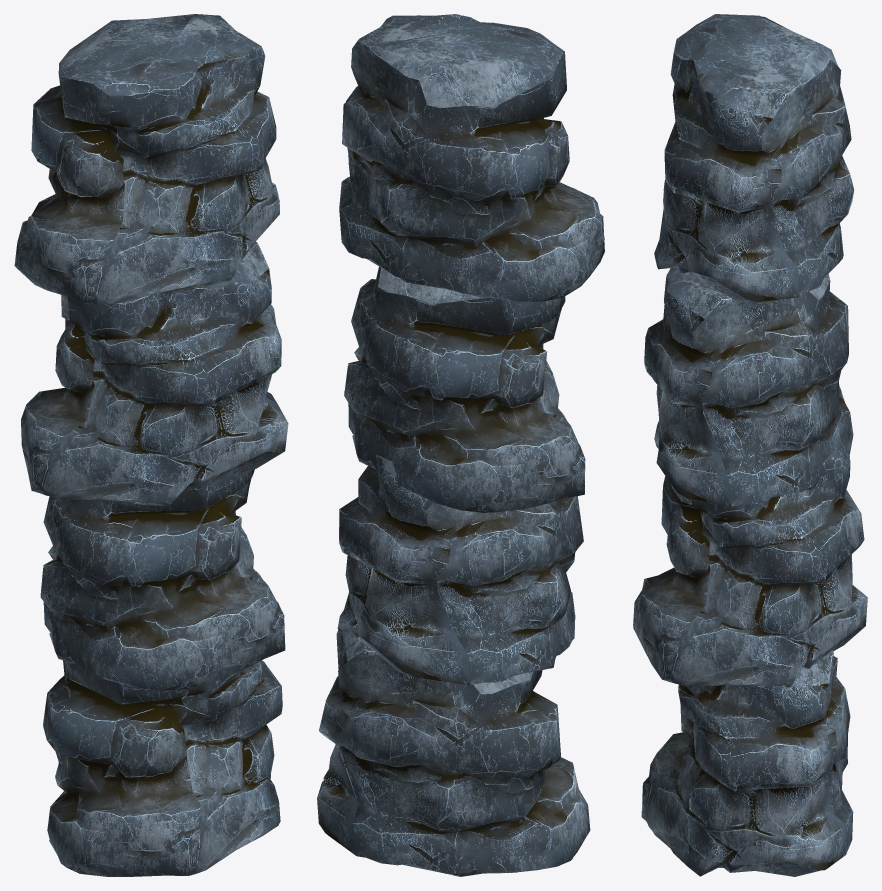
File: DG01_Pedras.fbx
The picture shows the model from 3 angles, left to right: view 1: azimuth 30°, elevation 25°; view 2: azimuth 150°, elevation 25°; view 3: azimuth 270°, elevation 25°; orthographic projection.
Parts seen in each view (by area): view 1: Pedra 03, Pedra 02, Pedra, Pedra 01; view 2: Pedra 03, Pedra, Pedra 02, Pedra 01; view 3: Pedra 03, Pedra 02, Pedra 01, Pedra.
Part boxes in pixels (<box>): Pedra 03: <box>14,14,279,304</box>; Pedra 02: <box>21,242,288,505</box>; Pedra: <box>43,660,282,876</box>; Pedra 01: <box>40,469,285,690</box>; Pedra 03: <box>339,14,604,301</box>; Pedra: <box>317,600,590,876</box>; Pedra 02: <box>344,266,585,512</box>; Pedra 01: <box>337,455,583,685</box>; Pedra 03: <box>654,14,854,302</box>; Pedra 02: <box>644,267,853,506</box>; Pedra 01: <box>633,418,867,687</box>; Pedra: <box>641,621,853,876</box>.
Size of the model in its own units: 555 by 1688 by 450.
